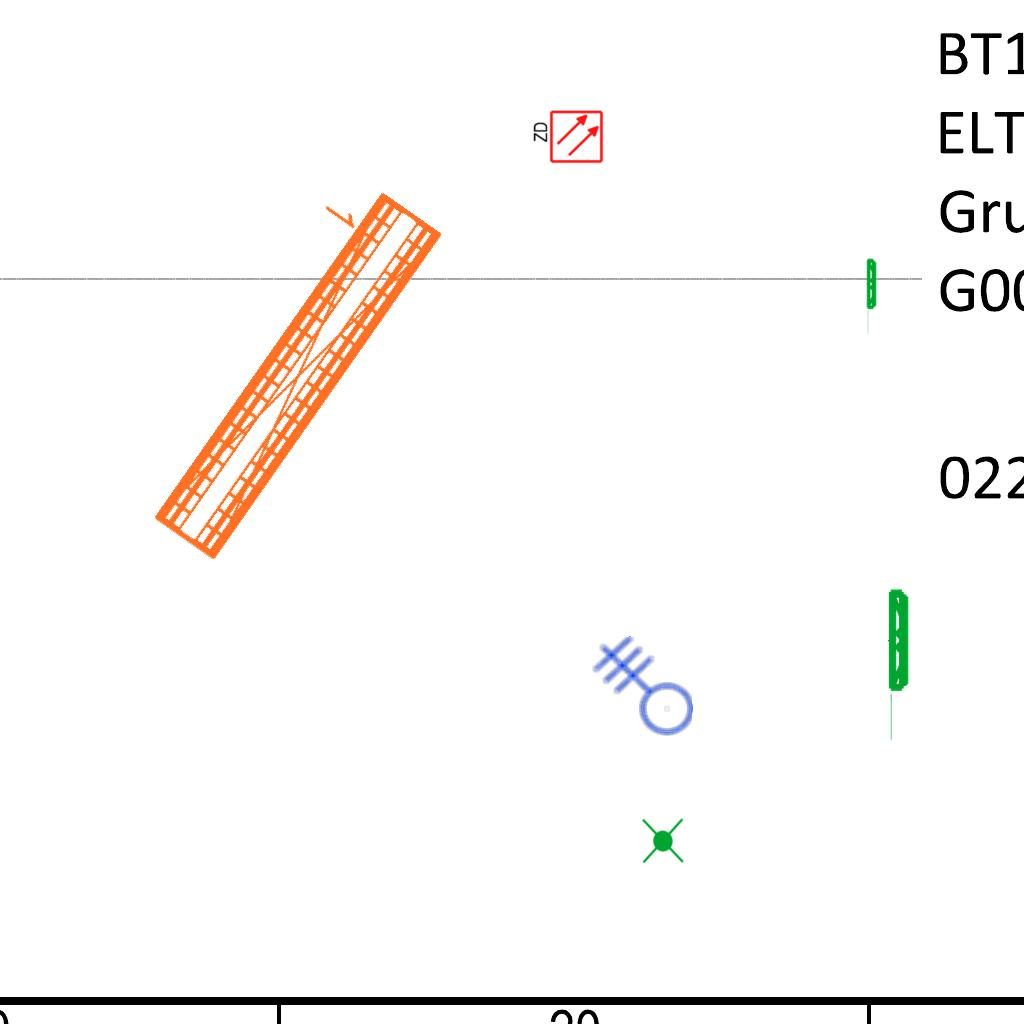Buero_Pendelleuchten_LED: (110, 159, 455, 573)
Elektroanschluss_allgemein_400V_Geraeteanschlussdose_400V: (581, 635, 694, 751)
Notlichtbaustein_in_Allgemeinbeleuchtug_engebaut_Einbau_(1UG_und_2UG_Aufbauvaria: (638, 816, 689, 866)
Sicherheitsleuchte_Wandeinbau: (887, 586, 912, 745), (866, 257, 878, 336)
ZD_Melder_in_Zwischendecke_mit_Revisionsoeffnung_mind_40_x_40_cm: (530, 109, 604, 166)
